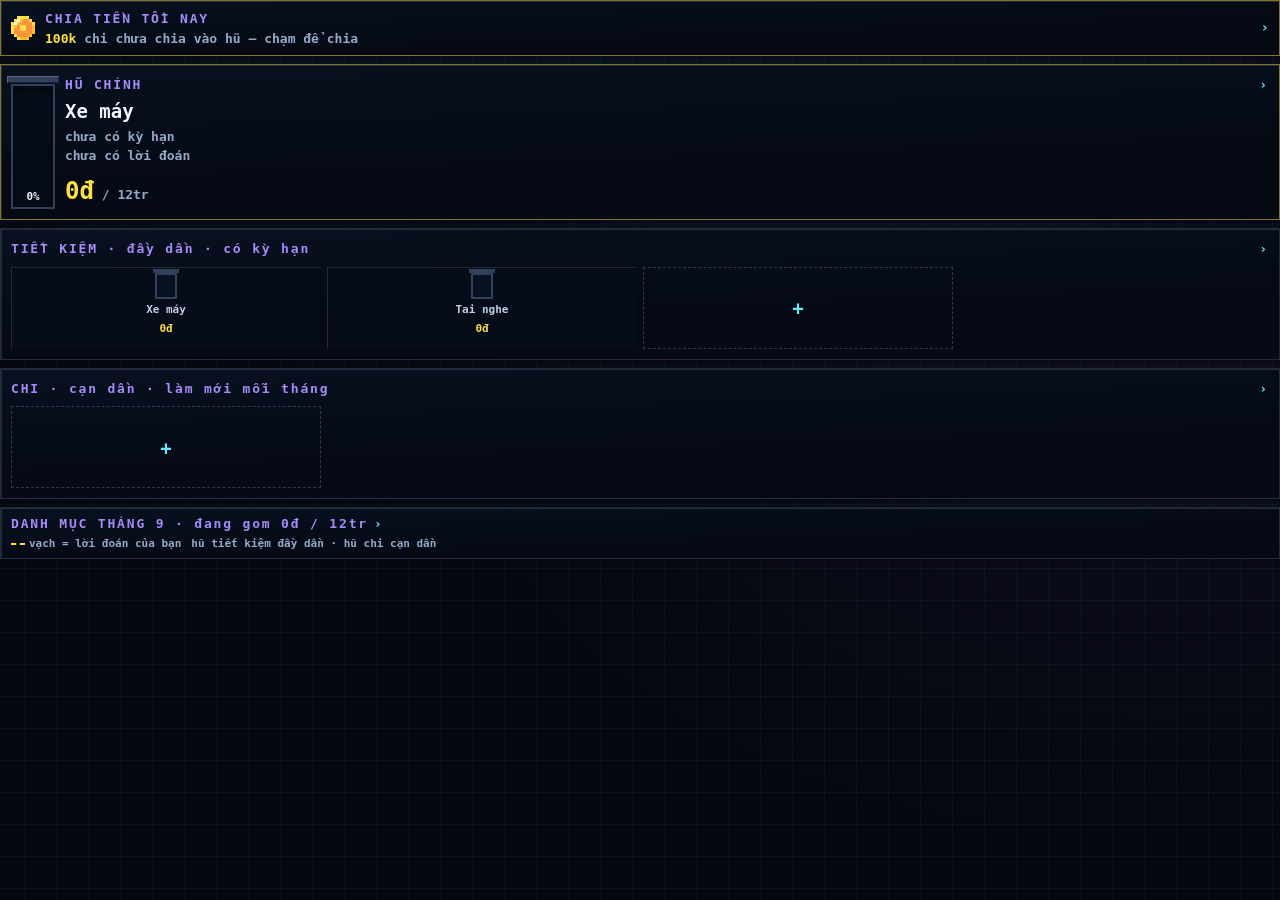
Scenario: §I — ⭐⭐⭐ "ở trên là các hũ, bấm vào 1 hũ thì hiện ra số tiền" › ⭐⭐⭐ D421 — ví về 0 ⇒ kệ và khay VẪN ĐỨNG (còn hũ đang chạy): khay nói ví trống, không biến mất
Click the button "CHIA TIỀN TỐI NAY 100k chi chưa chia vào hũ — chạm để chia ›". click: (127, 18)
box: [0,0,1279,56]
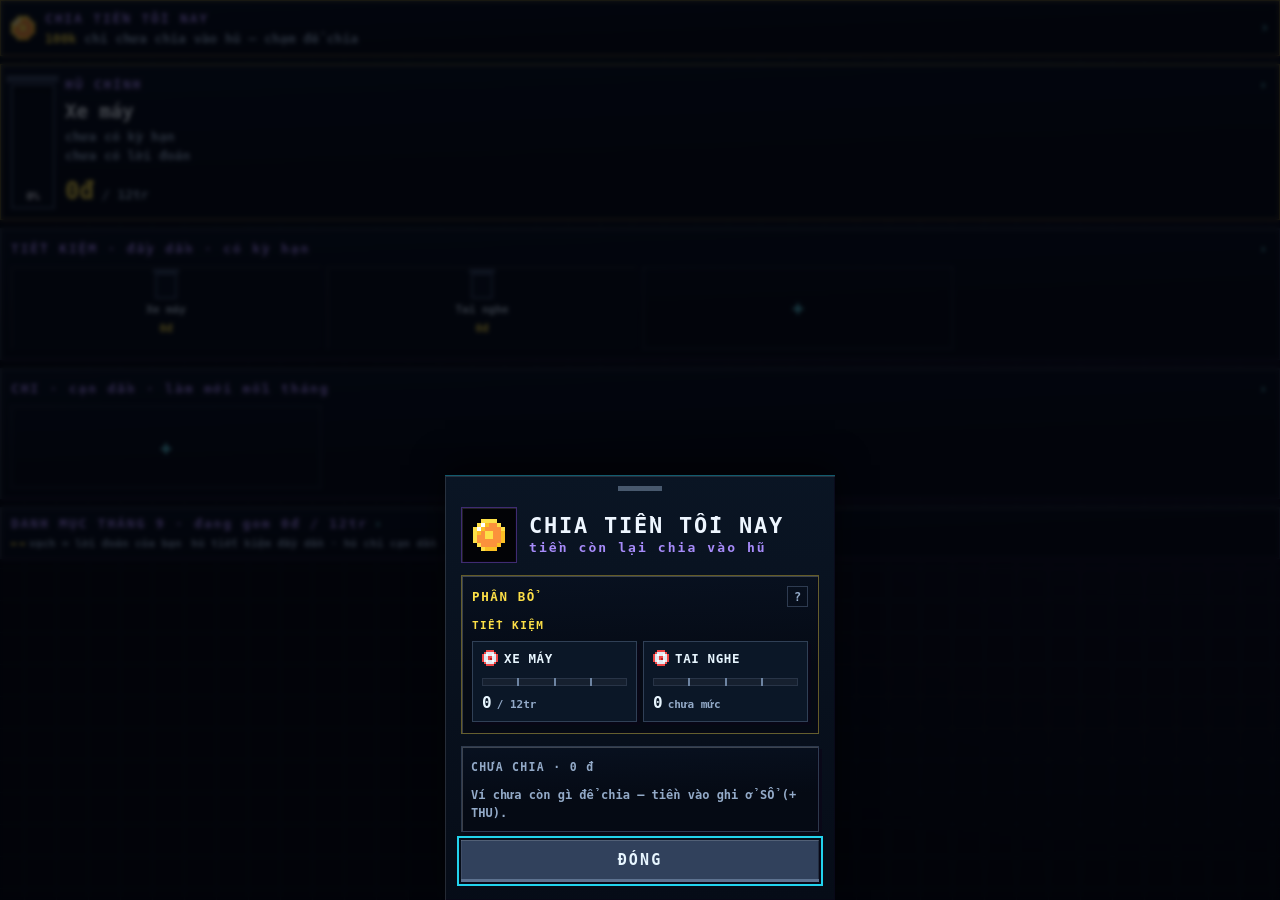
Expected: the element with test id "ke-phan-bo" is shown, [461,575,819,734]
Expected: the element with test id "khay-phan-bo" shows "Ví chưa còn gì để chia — tiền vào ghi ở SỔ (+ THU).", [471,788,796,820]
